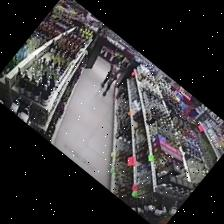person: (101, 62, 121, 96)
